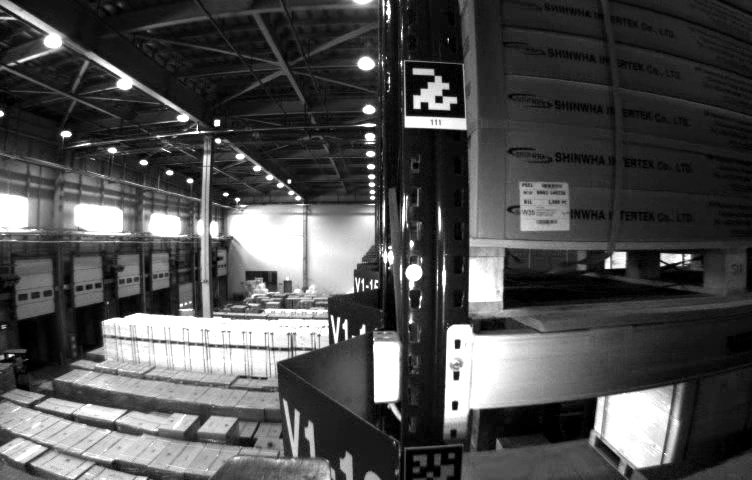True Barcode: (517, 179, 573, 233)
